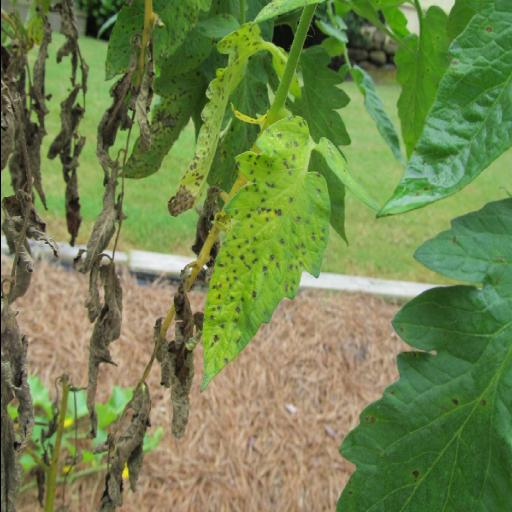Septoria: (332, 195, 512, 512), (204, 128, 334, 392), (374, 0, 512, 220), (166, 18, 266, 220), (118, 42, 226, 182), (102, 0, 202, 81)
